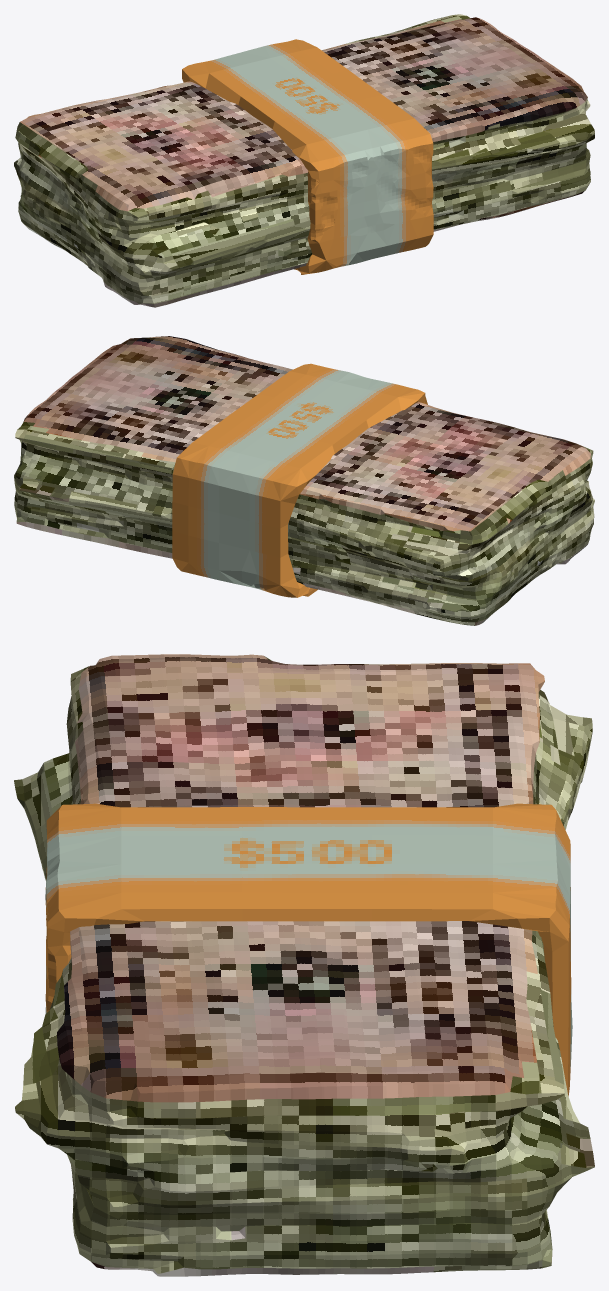
Rendered from money_stack.glb.
3 renders of one model, top to bottom at view 1: azimuth 30°, elevation 25°; view 2: azimuth 150°, elevation 25°; view 3: azimuth 270°, elevation 25°, orthographic. The views are drawn at different scales.
Visible parts, largest first — view 1: Plane.014, Cube; view 2: Plane.014, Cube; view 3: Plane.014, Cube.
Part boxes in pixels (x1=…): Plane.014: x1=14, y1=14, x2=594, y2=307; Cube: x1=182, y1=39, x2=433, y2=274; Plane.014: x1=14, y1=336, x2=594, y2=625; Cube: x1=172, y1=363, x2=427, y2=597; Plane.014: x1=14, y1=654, x2=594, y2=1276; Cube: x1=45, y1=803, x2=572, y2=1096.
Size of the model in its own units: 0.2681 by 0.0635 by 0.1459.
Materials: 4 (4 with a texture image).
